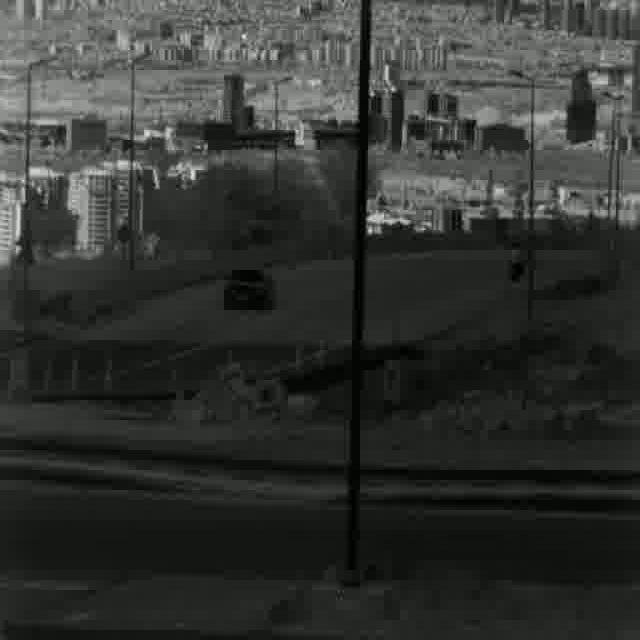Car: (219, 264, 279, 314)
Motorcycle: (502, 238, 526, 290)
